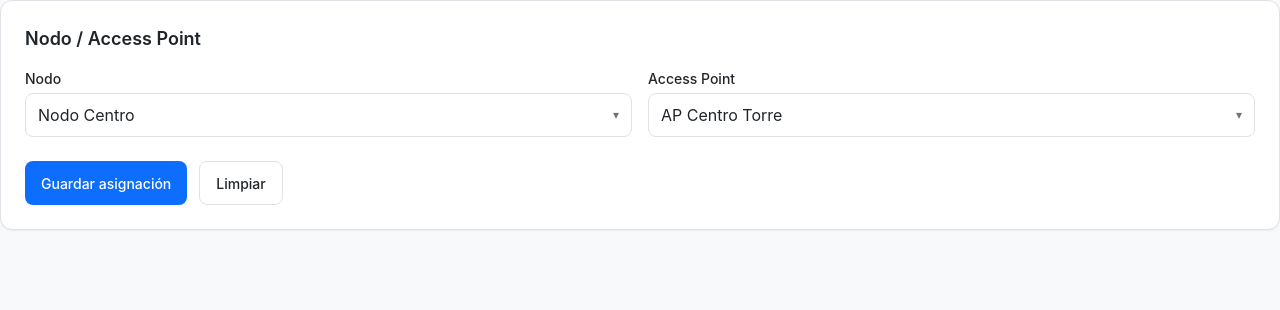
ContractNetworkAssignmentPicker › maps ACCESS_POINT_RETIRED to a specific message
Click the button with test id "network-assignment-save-button" at (106, 183), box [25, 161, 187, 205]
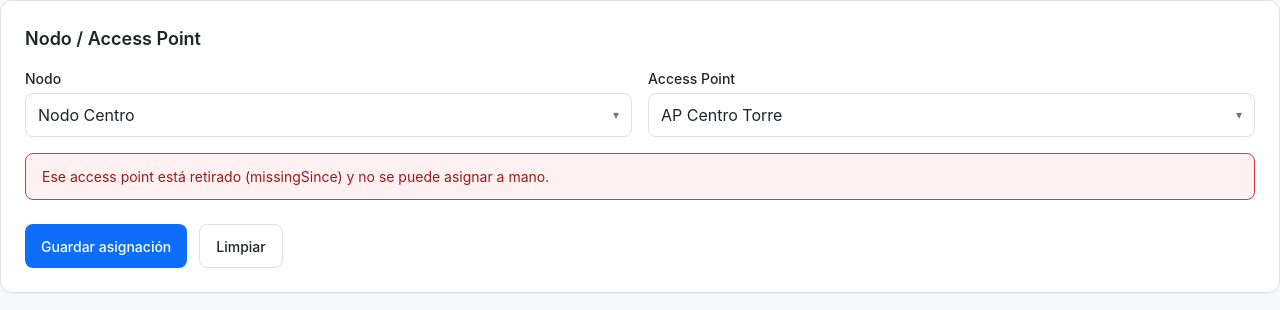
Now the message shows "retirado", box [42, 168, 549, 185]
